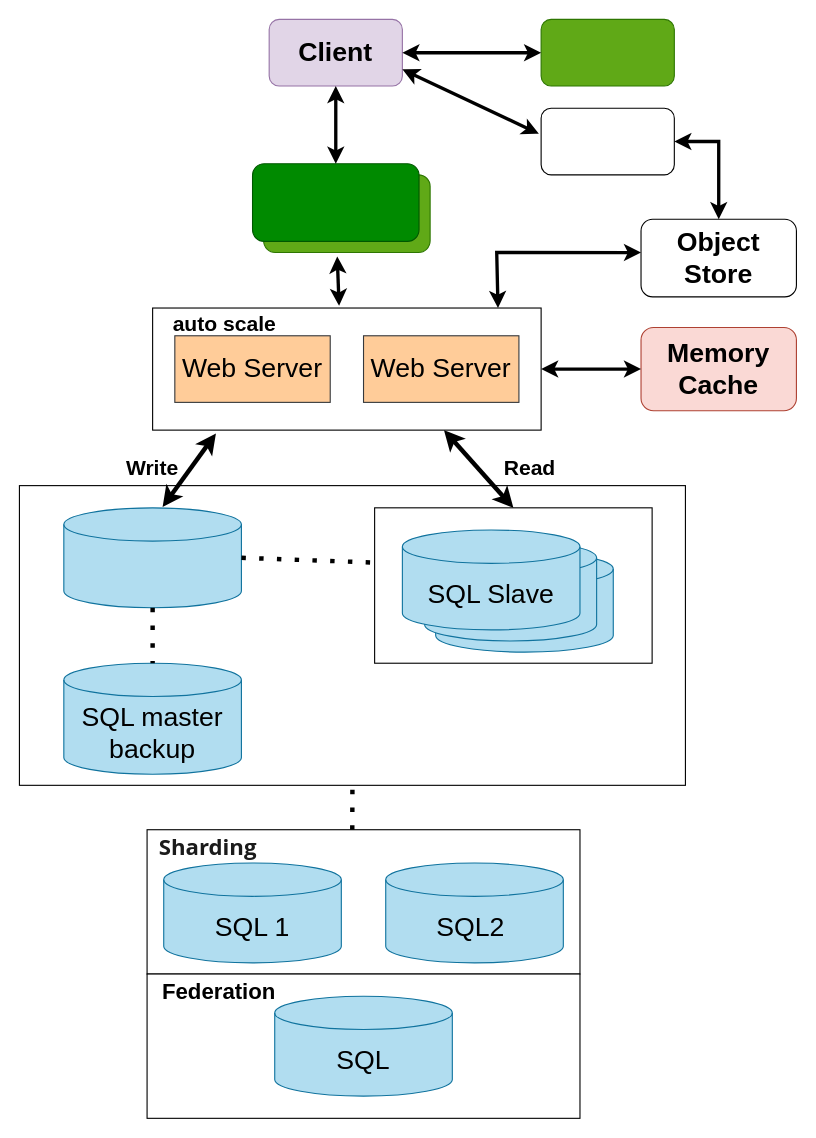
The diagram is 816 pixels wide and 1138 high, and some of its shapes have lost their labels. Here are the shapes that lost their labels. From the top down, the box of each, then its label:
(540, 18, 674, 86): DNS
(540, 107, 674, 175): CDN
(251, 163, 419, 241): Load Balancer
(63, 507, 241, 608): SQL master
